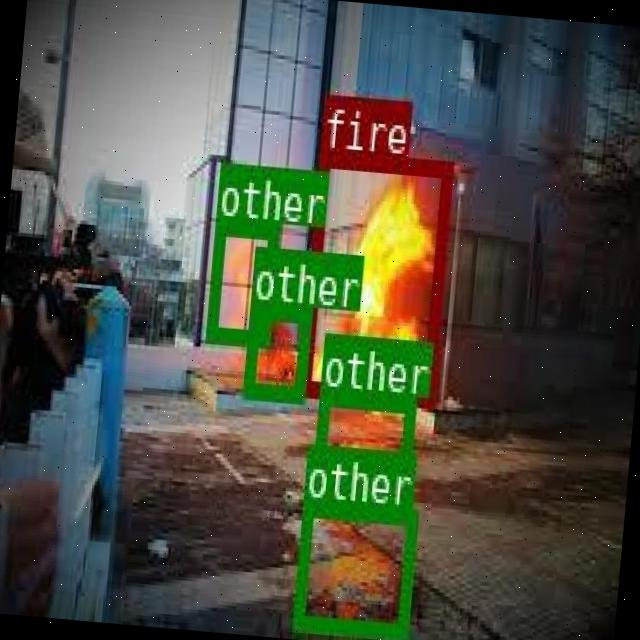fire: (298, 148, 452, 403)
